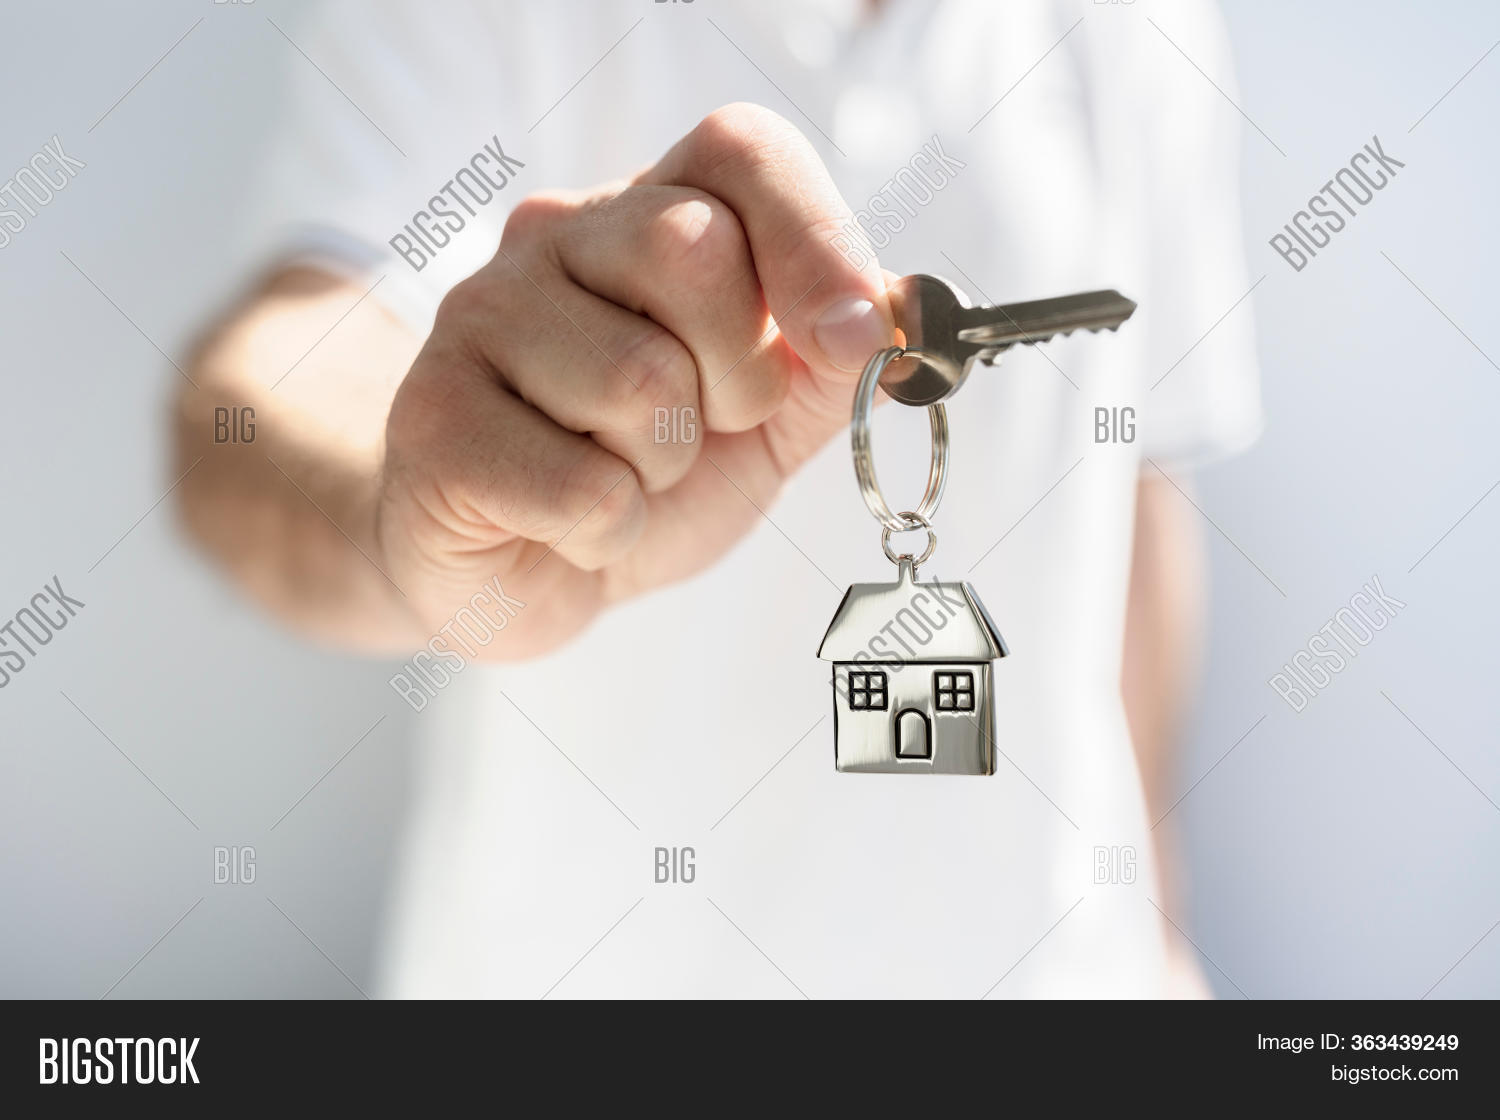key: (861, 271, 1145, 405)
